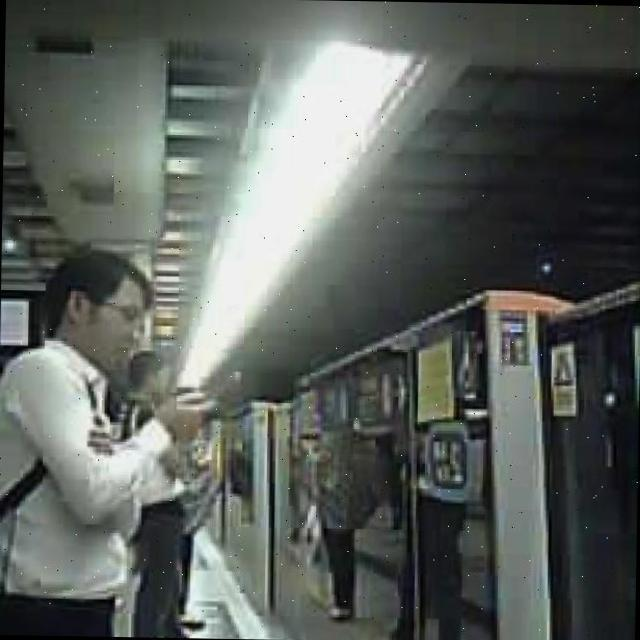person: (0, 247, 179, 637), (118, 347, 206, 638)
